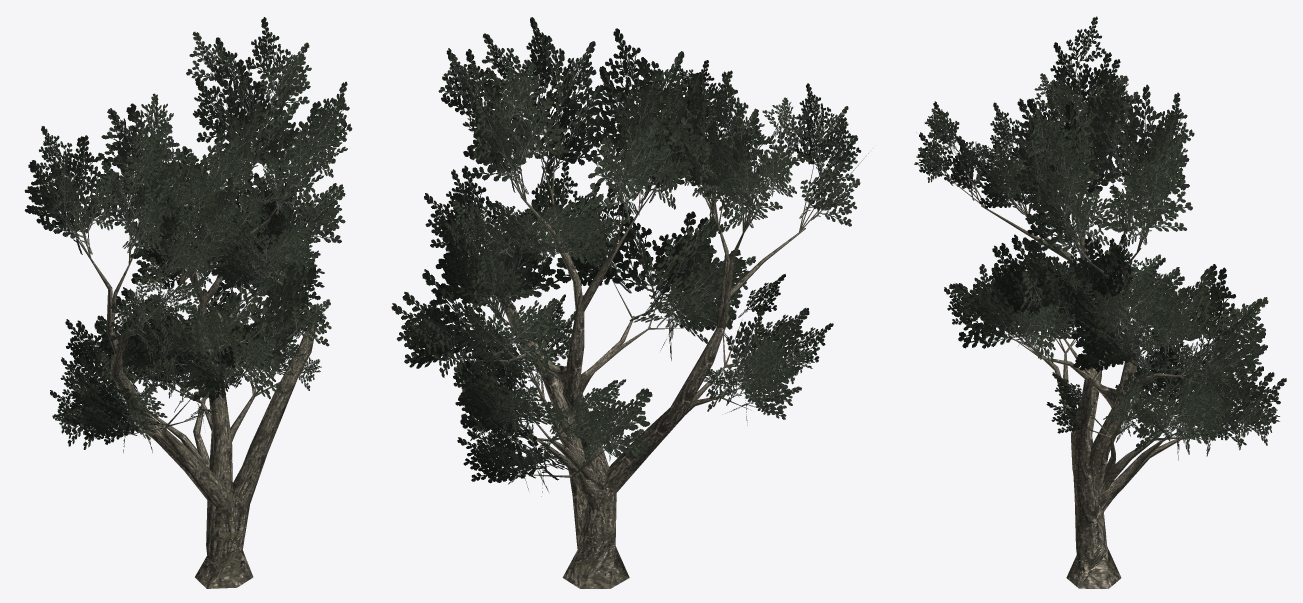
File: SM_EC_Tree_Oak_00.fbx
3 renders of one model, left to right at view 1: azimuth 30°, elevation 25°; view 2: azimuth 150°, elevation 25°; view 3: azimuth 270°, elevation 25°, orthographic. The views are drawn at different scales.
Parts seen in each view (by area): view 1: SM_EC_Tree_Oak_00; view 2: SM_EC_Tree_Oak_00; view 3: SM_EC_Tree_Oak_00.
Part boxes in pixels (x1,y1,x2,y2): SM_EC_Tree_Oak_00: [24, 17, 352, 588]; SM_EC_Tree_Oak_00: [391, 17, 868, 588]; SM_EC_Tree_Oak_00: [914, 16, 1286, 588].
Bounding box in the file's own units: 6.09 × 6.14 × 8.77.
